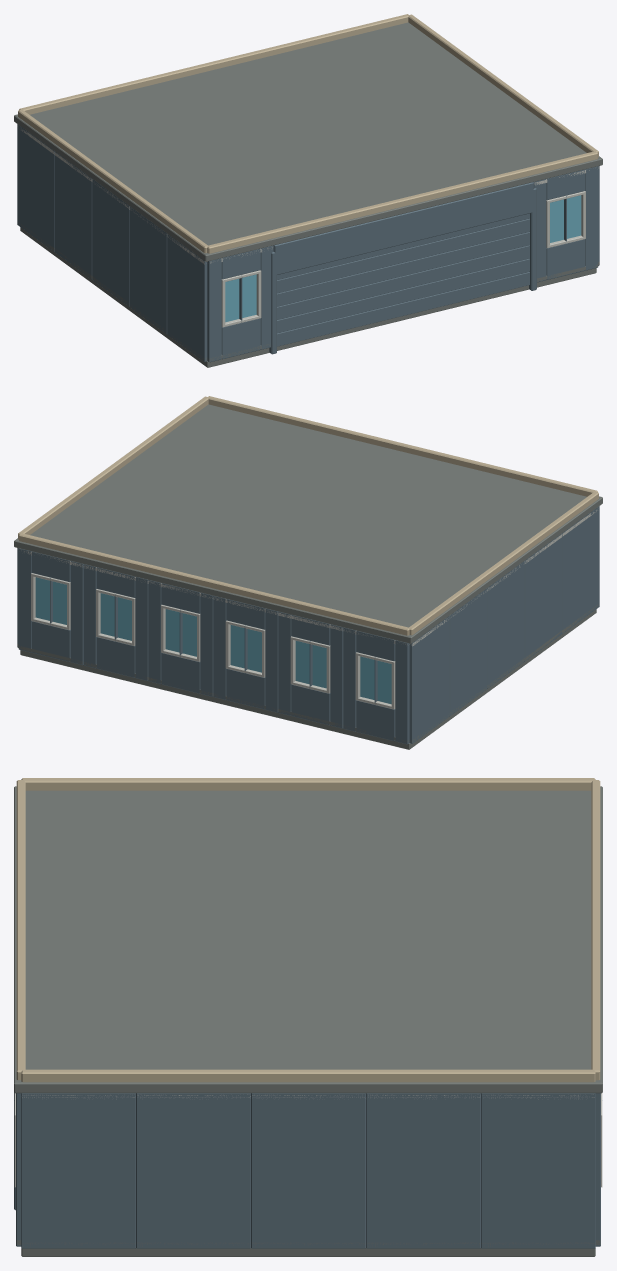
The model's file is architecture-warehouse.lod0.glb.
3 views of the same model, one above another, from view 1: azimuth 30°, elevation 25°; view 2: azimuth 150°, elevation 25°; view 3: azimuth 270°, elevation 25° (orthographic). The views are drawn at different scales.
Parts seen in each view (by area): view 1: architecture-warehouse__body, architecture-warehouse__loading_door; view 2: architecture-warehouse__body; view 3: architecture-warehouse__body.
Boxes of the visible parts, x1=… form: architecture-warehouse__body: x1=14, y1=14, x2=602, y2=367; architecture-warehouse__loading_door: x1=277, y1=213, x2=529, y2=346; architecture-warehouse__body: x1=14, y1=396, x2=602, y2=749; architecture-warehouse__body: x1=14, y1=778, x2=602, y2=1256.
Bounding box in the file's own units: 12.25 × 3.58 × 10.25.
